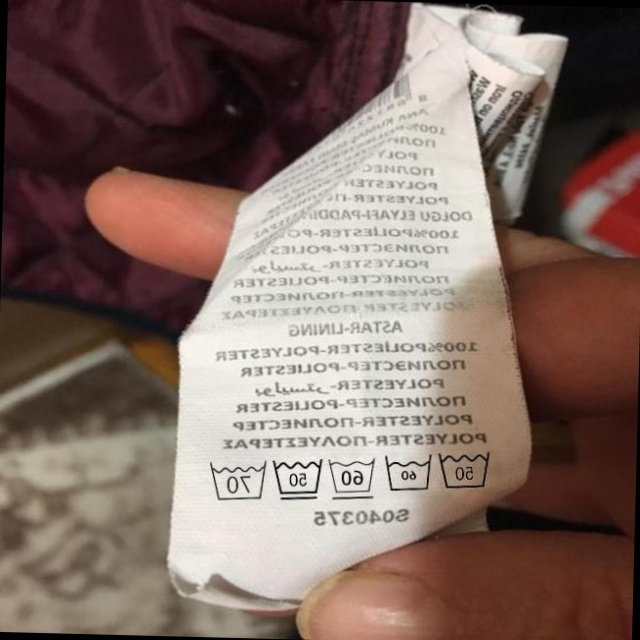50C: (434, 443, 497, 495), (268, 454, 326, 504)
60C: (323, 452, 378, 501), (380, 450, 435, 497)
70C: (202, 457, 267, 504)
